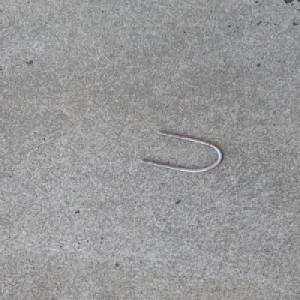ClampPart: (139, 130, 225, 172)
